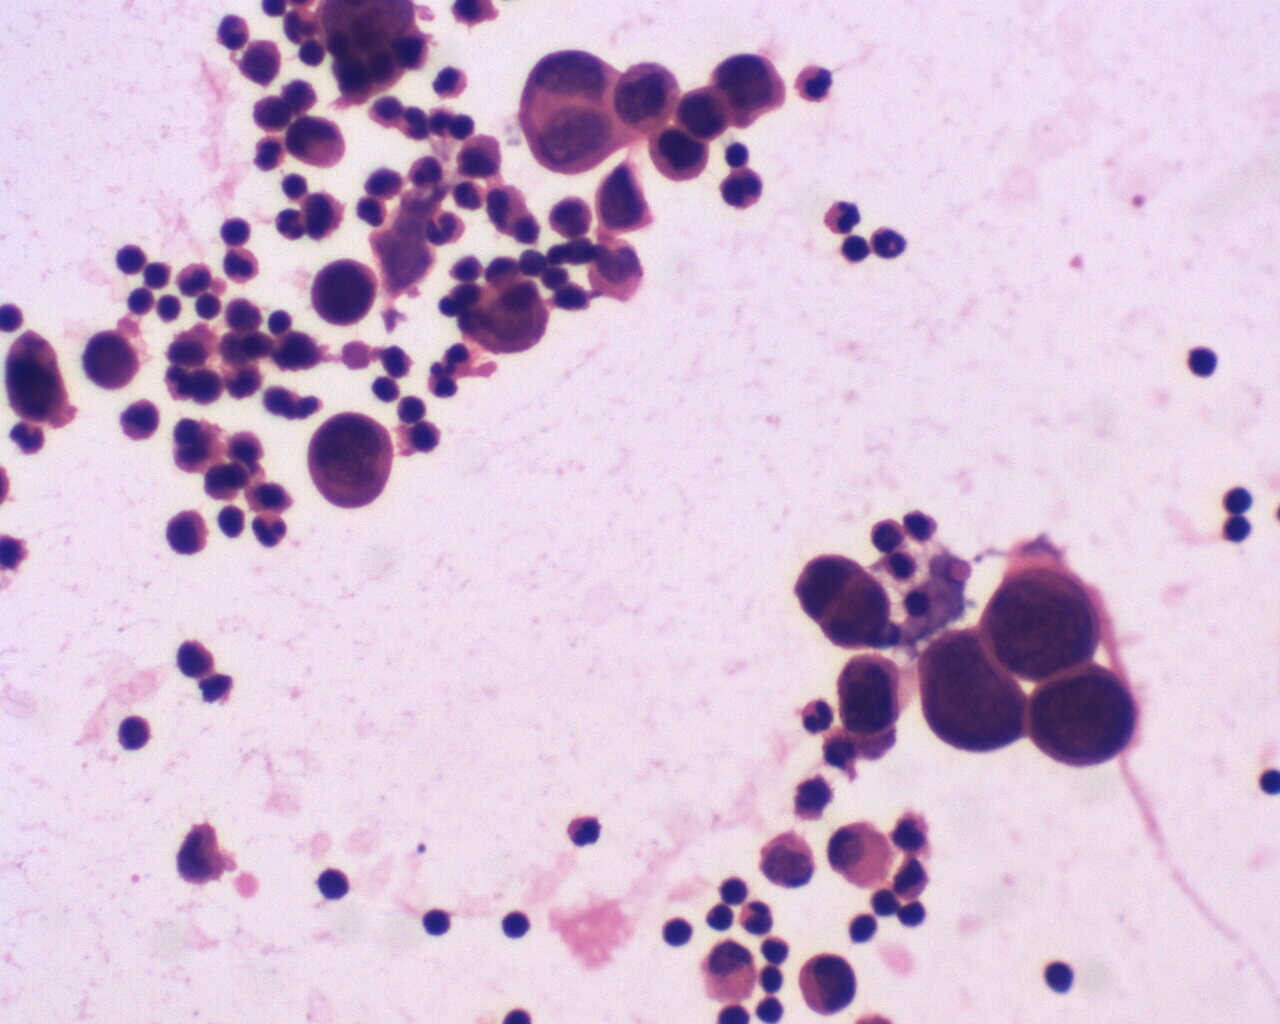ab: (918, 624, 1028, 757), (986, 564, 1108, 680), (1029, 664, 1141, 773), (794, 549, 893, 652), (300, 410, 394, 514), (1, 327, 80, 427), (709, 49, 786, 130), (591, 157, 661, 238), (304, 254, 378, 327), (615, 59, 683, 134), (796, 946, 860, 1017), (77, 330, 147, 393), (648, 124, 711, 187), (669, 82, 727, 145), (164, 505, 207, 561), (239, 39, 284, 89)
lymph: (1179, 339, 1225, 383), (1044, 954, 1083, 1002), (655, 910, 695, 952), (111, 237, 149, 278), (317, 865, 355, 905), (423, 903, 457, 942), (219, 213, 257, 248), (499, 905, 533, 942), (1219, 481, 1254, 515)
meso: (824, 817, 892, 895)
neutro: (792, 62, 836, 108), (717, 171, 765, 212), (421, 208, 467, 249), (245, 507, 290, 548), (869, 222, 910, 267), (824, 194, 865, 235), (220, 248, 260, 289), (797, 697, 836, 740), (564, 810, 604, 850), (273, 204, 305, 245)
